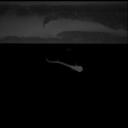fish: (46, 55, 84, 71)
